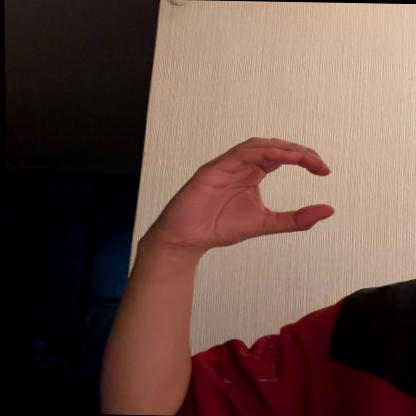C: (154, 127, 340, 254)
